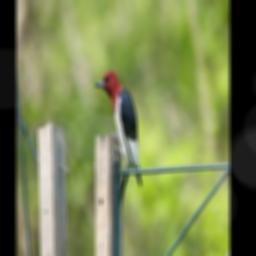Woodpecker: (93, 70, 141, 186)
